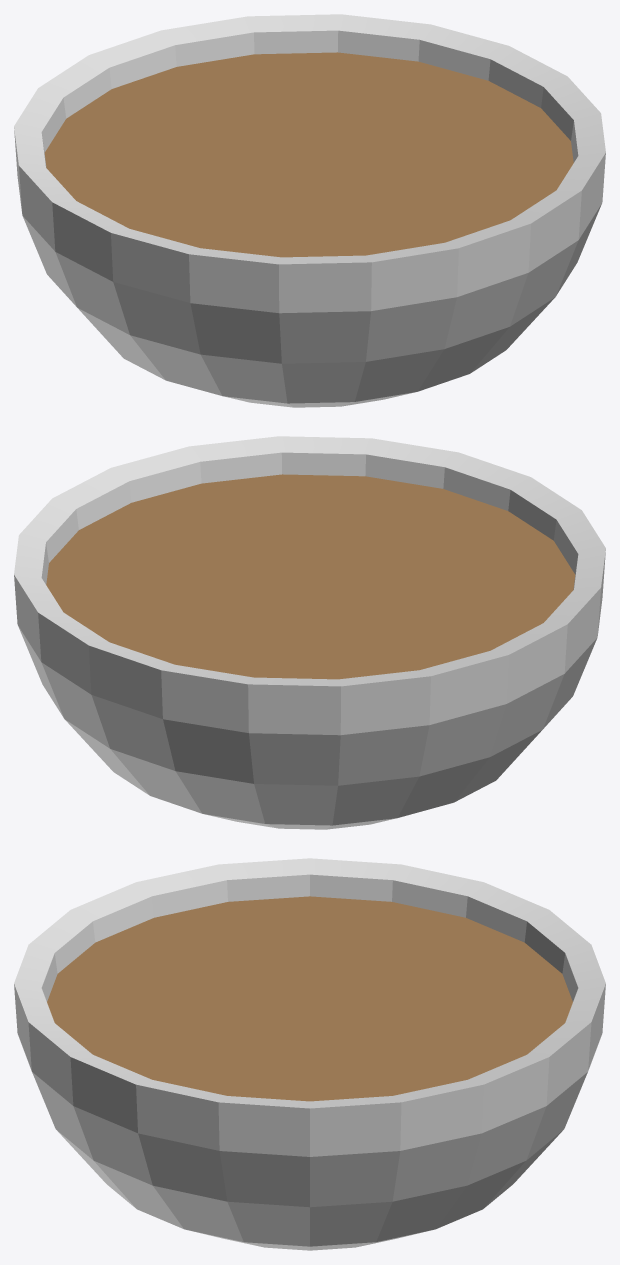
File: bowl.fbx
The picture shows the model from 3 angles, top to bottom: view 1: azimuth 30°, elevation 25°; view 2: azimuth 150°, elevation 25°; view 3: azimuth 270°, elevation 25°; orthographic projection.
Visible parts, largest first — view 1: pCylinder16, pCylinder17; view 2: pCylinder16, pCylinder17; view 3: pCylinder16, pCylinder17.
Part boxes in pixels (x1=…): pCylinder16: x1=14, y1=14, x2=605, y2=407; pCylinder17: x1=44, y1=52, x2=573, y2=257; pCylinder16: x1=14, y1=436, x2=605, y2=829; pCylinder17: x1=46, y1=474, x2=575, y2=679; pCylinder16: x1=14, y1=858, x2=605, y2=1250; pCylinder17: x1=47, y1=896, x2=572, y2=1101.
Size of the model in its own units: 106 by 40.42 by 106.
